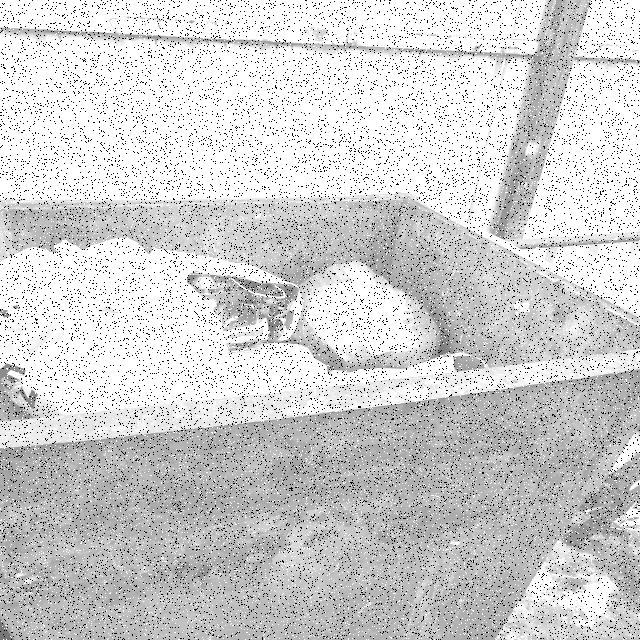Trashcan: (2, 192, 640, 640)
